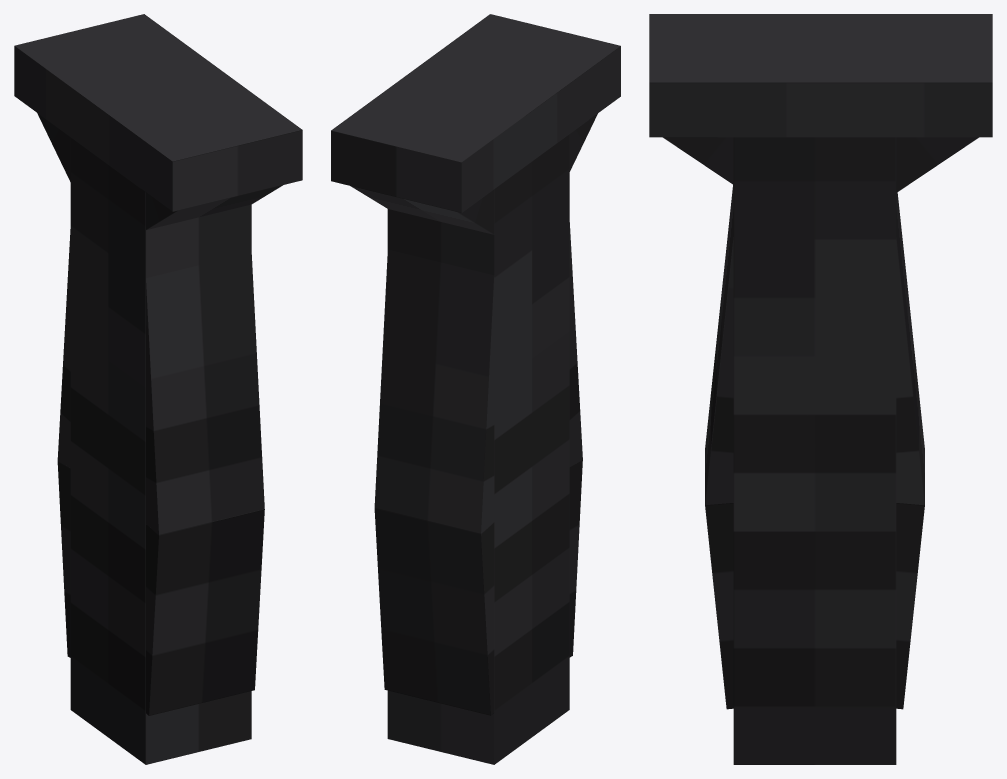
File: foregrip.obj
3 renders of one model, left to right at view 1: azimuth 30°, elevation 25°; view 2: azimuth 150°, elevation 25°; view 3: azimuth 270°, elevation 25°, orthographic. The views are drawn at different scales.
Parts seen in each view (by area): view 1: gun_8; view 2: gun_8; view 3: gun_8.
Boxes of the visible parts, x1,y1,x2,y2 form: gun_8: (14, 14, 302, 764); gun_8: (331, 14, 620, 764); gun_8: (649, 14, 992, 764).
Size of the model in its own units: 0.1687 by 0.7876 by 0.3563.
